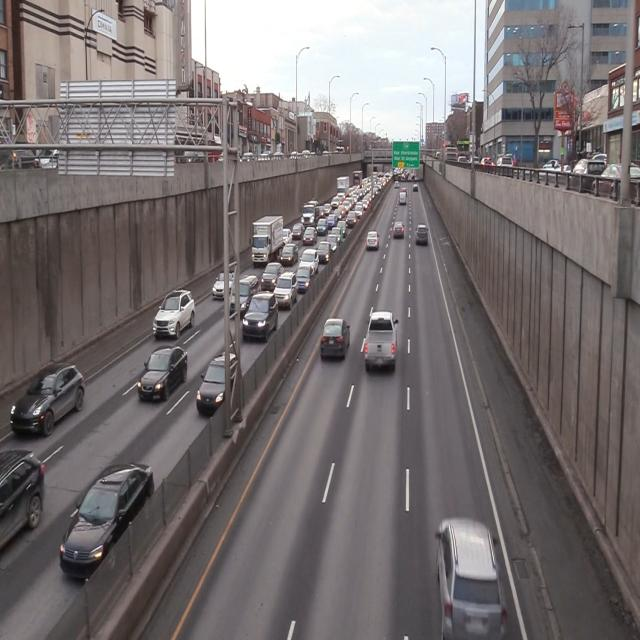Car: (58, 461, 154, 579), (434, 518, 499, 640), (9, 362, 86, 439), (137, 346, 188, 404), (197, 350, 239, 420), (364, 308, 401, 375), (153, 288, 195, 342), (319, 314, 353, 366), (243, 293, 279, 342), (251, 216, 282, 266), (229, 275, 259, 316), (274, 272, 298, 314), (212, 266, 238, 301), (261, 262, 284, 291), (296, 264, 314, 294), (300, 250, 319, 274), (281, 243, 298, 268), (365, 228, 381, 254), (414, 224, 428, 247), (256, 348, 274, 363), (393, 220, 405, 241)
